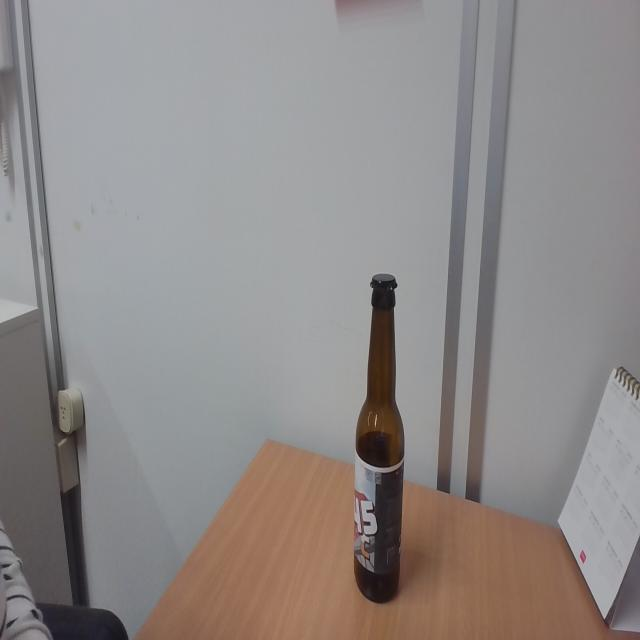Bottle: (354, 274, 405, 606)
Cap: (368, 272, 399, 292)
Label: (356, 457, 402, 572)
